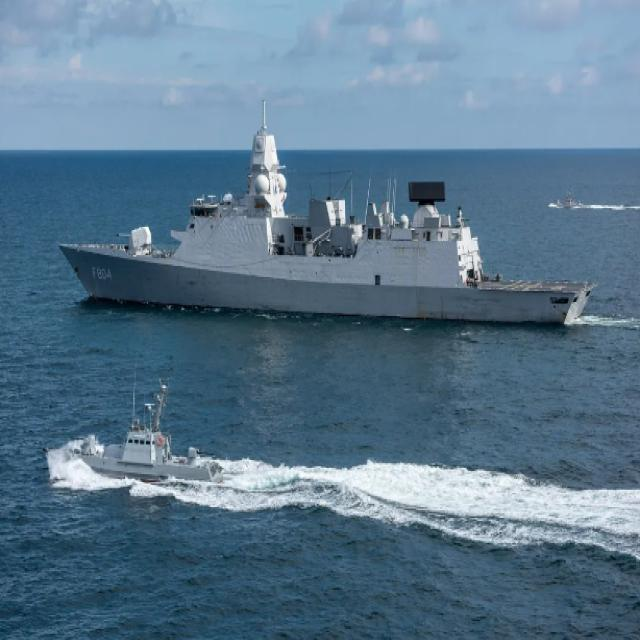navalvessels: (57, 92, 599, 356)
